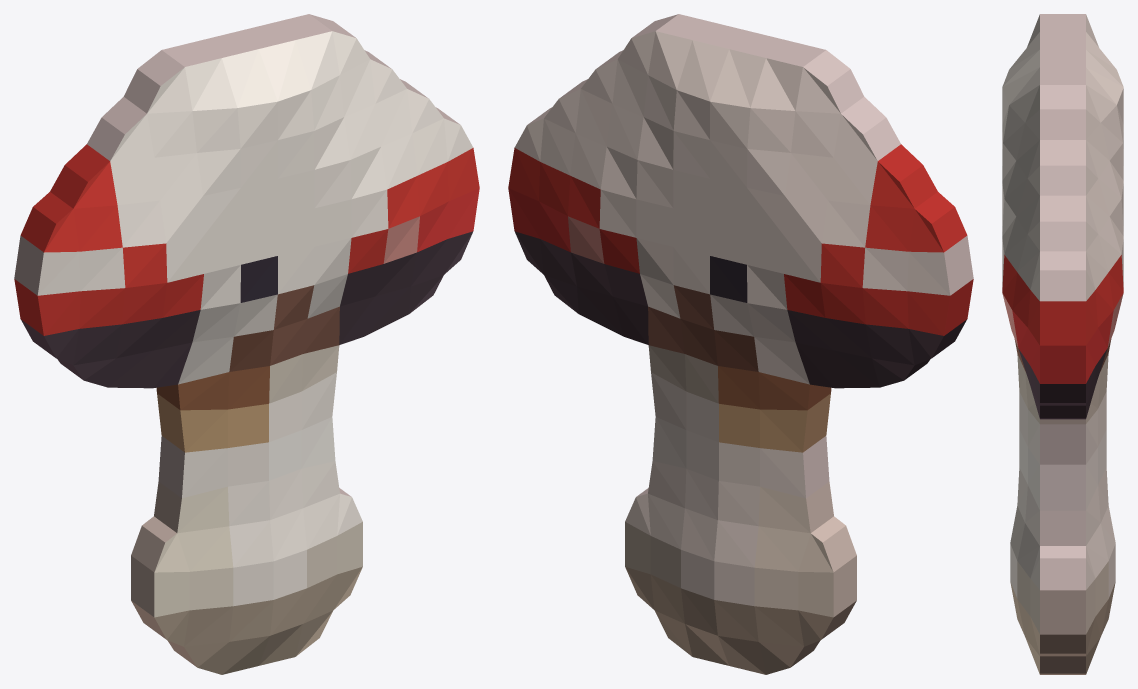
Rendered from skull_mushroom.glb.
The picture shows the model from 3 angles, left to right: view 1: azimuth 30°, elevation 25°; view 2: azimuth 150°, elevation 25°; view 3: azimuth 270°, elevation 25°; orthographic projection.
Visible parts, largest first — view 1: skull_mushroom; view 2: skull_mushroom; view 3: skull_mushroom.
Boxes of the visible parts, x1=… form: skull_mushroom: x1=14, y1=14, x2=479, y2=674; skull_mushroom: x1=508, y1=14, x2=973, y2=674; skull_mushroom: x1=1002, y1=14, x2=1123, y2=674.
Bounding box in the file's own units: 0.75 × 1 × 0.1813.
1 material, 1 textured.
